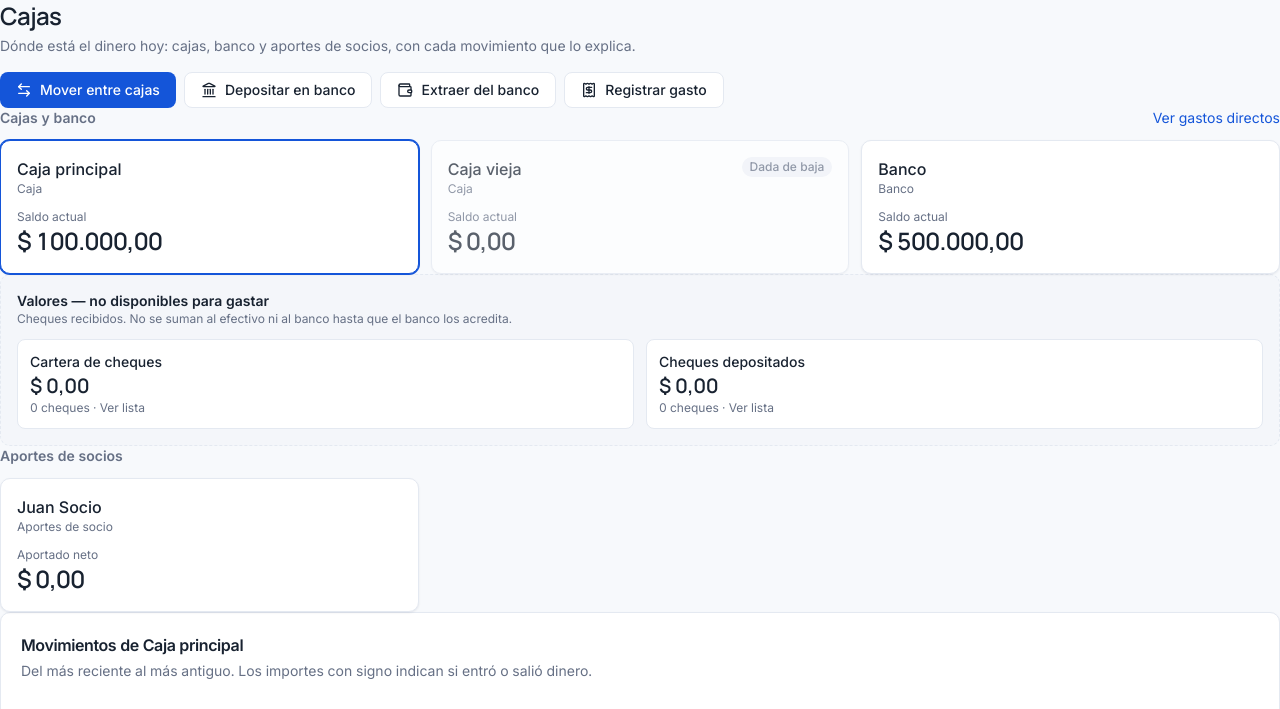
Test case: Registrar gasto from Cajas (R5-3) › shows the debit and the credit before sending, and sends only after the explicit confirmation
Click the button "Registrar gasto".
click(644, 90)  # box left=564, top=72, right=724, bottom=108
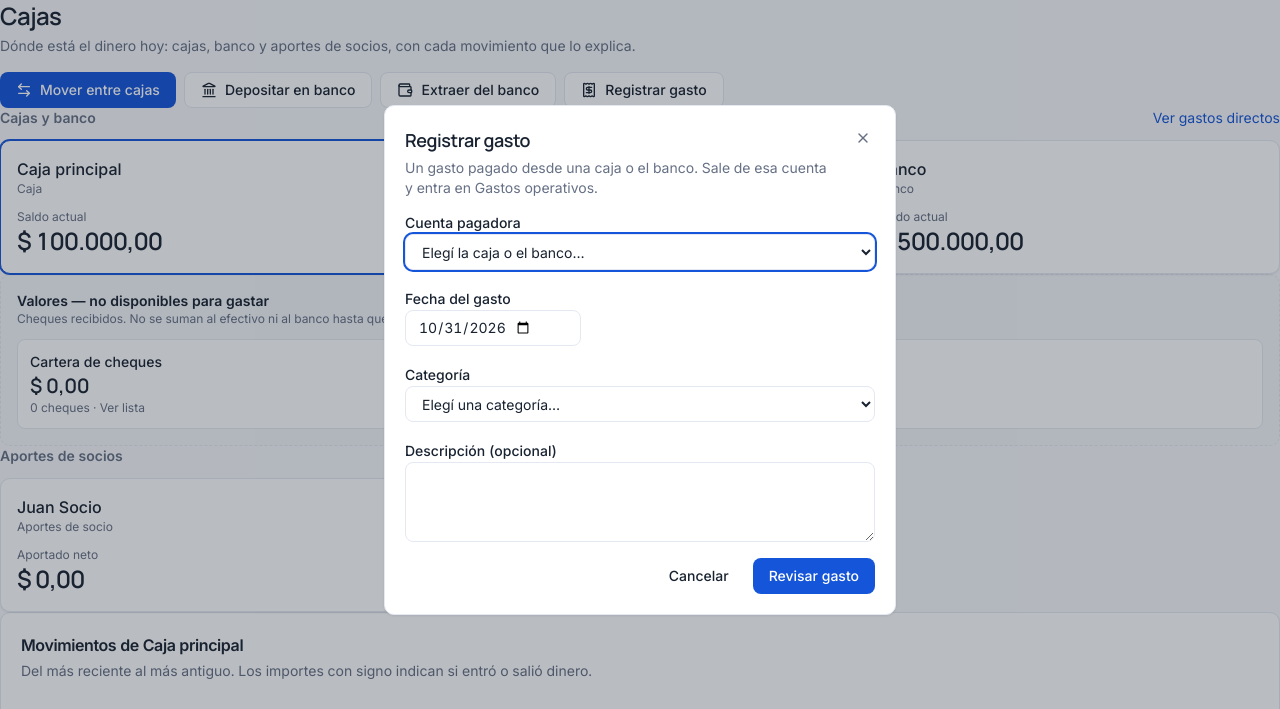
Select "Caja principal · saldo $ 100.000,00" in the dropdown labelled "Cuenta pagadora" at (640, 252), box left=405, top=234, right=875, bottom=270
Select "Peajes" in the dropdown labelled "Categoría" at (640, 404), box left=405, top=386, right=875, bottom=422
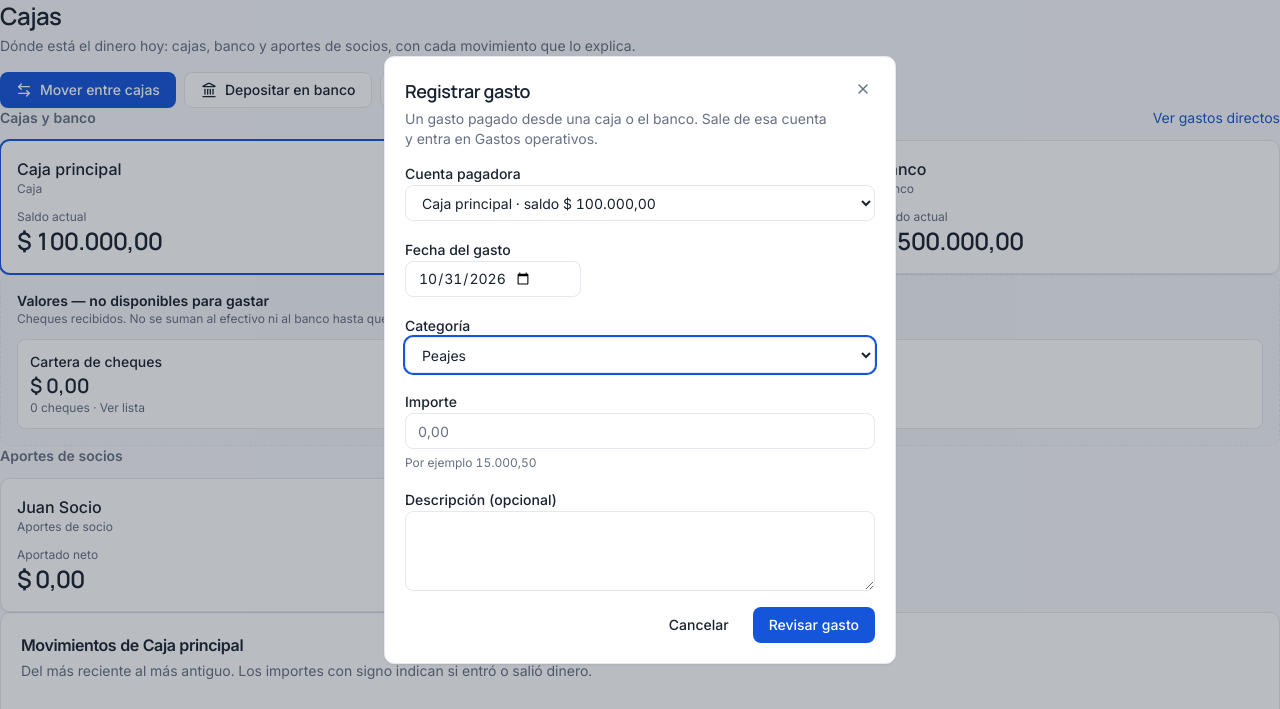
Type "5.000" into the field labelled "Importe".
click(640, 431); type("5.000")  # box left=405, top=413, right=875, bottom=449
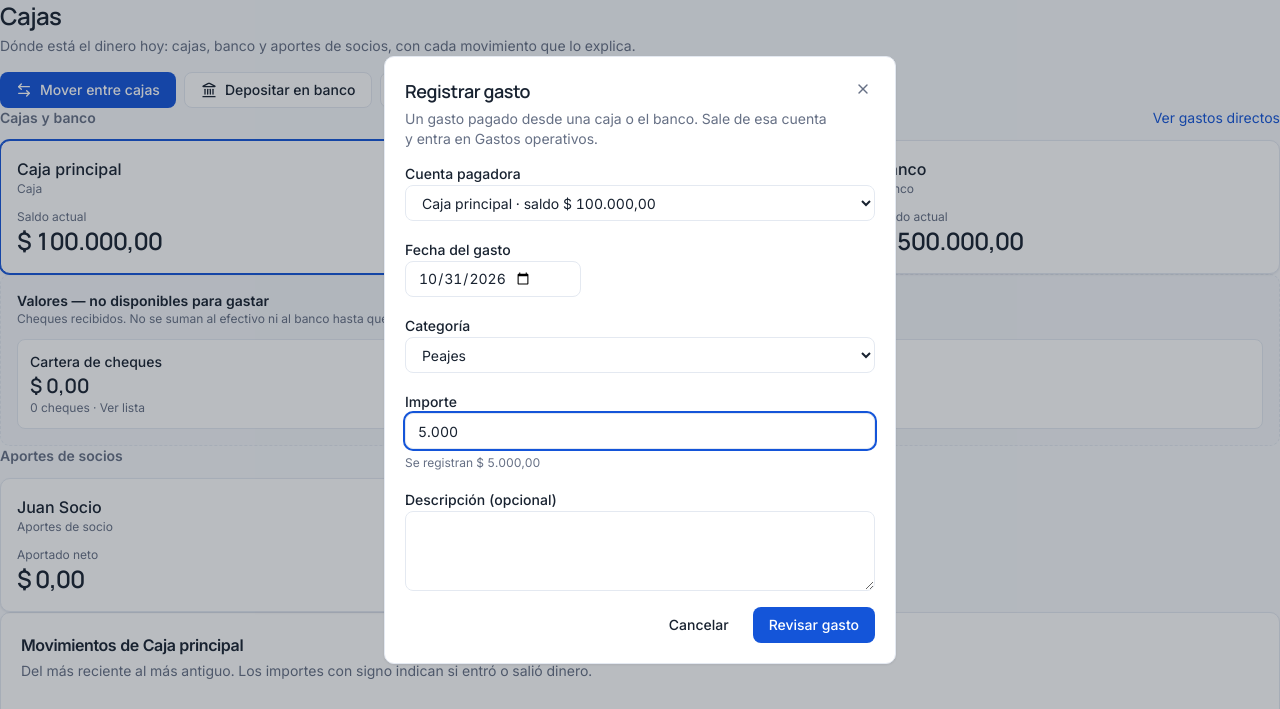
Type "Peaje autopista" into the text box labelled "Descripción (opcional)".
click(640, 551); type("Peaje autopista")  # box left=405, top=511, right=875, bottom=591
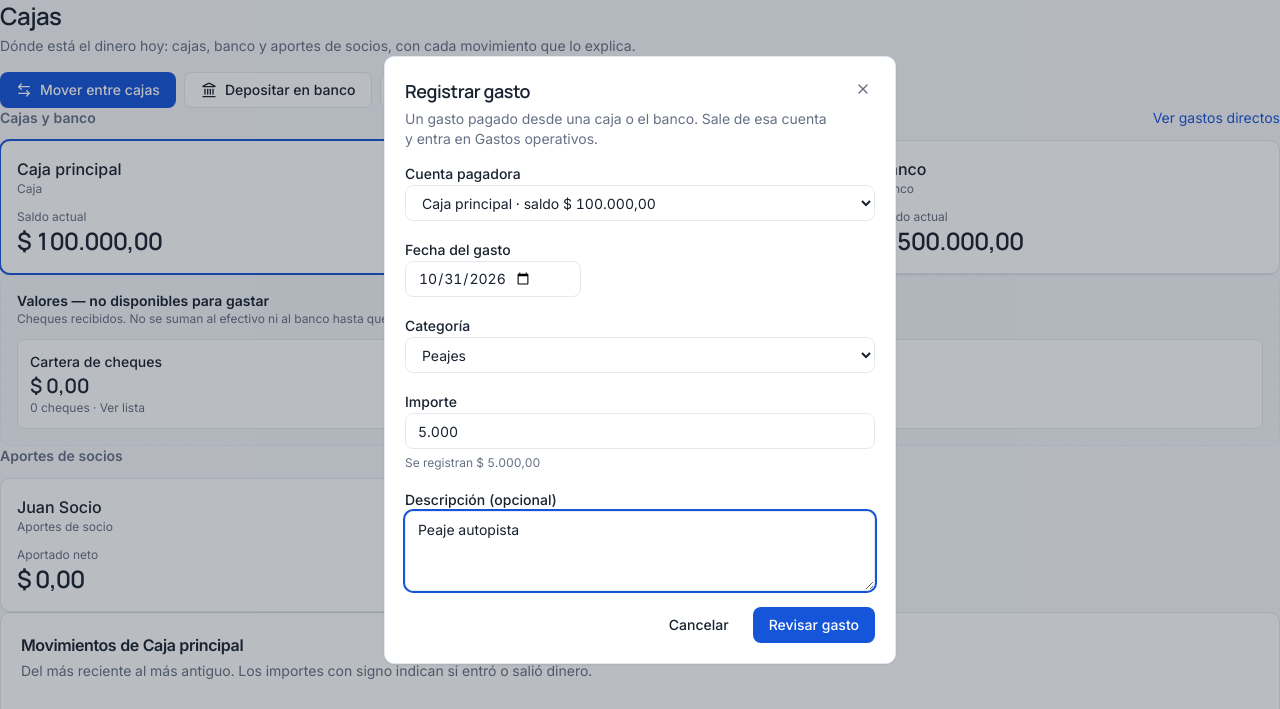
Click the button "Revisar gasto".
click(814, 625)  # box left=753, top=607, right=875, bottom=643
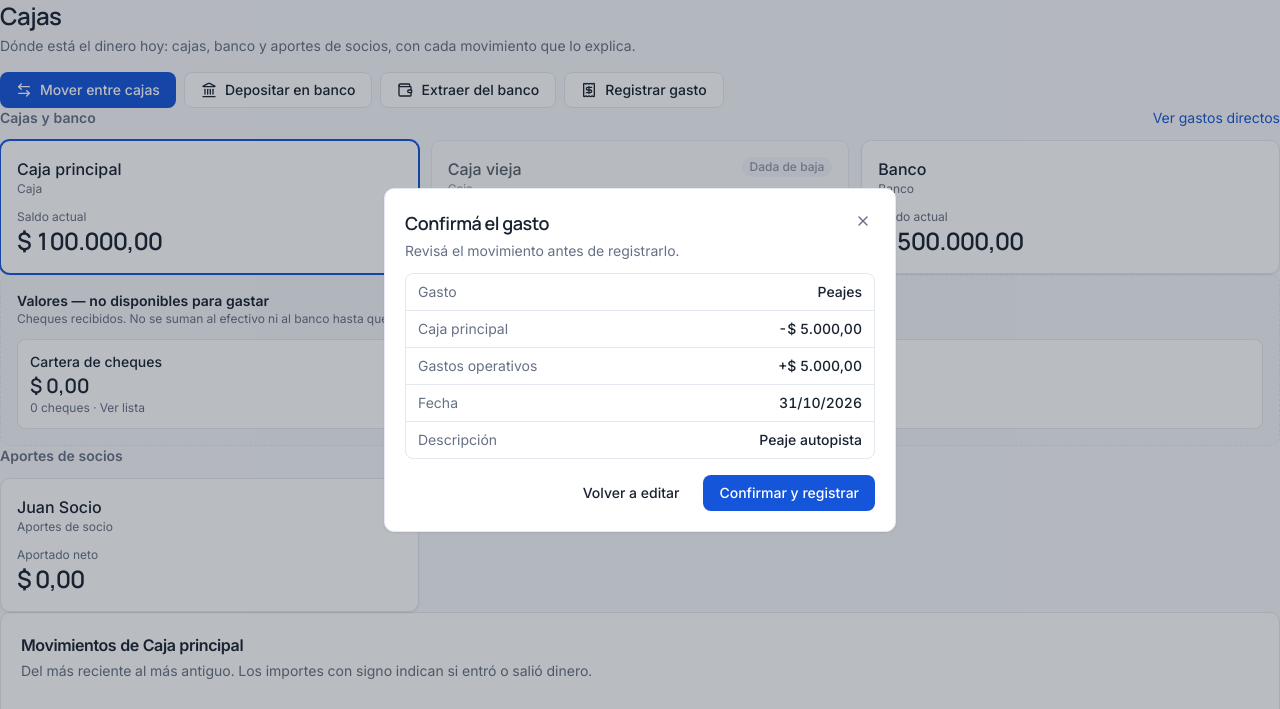
Click the button "Confirmar y registrar".
click(789, 493)  # box left=703, top=475, right=875, bottom=511
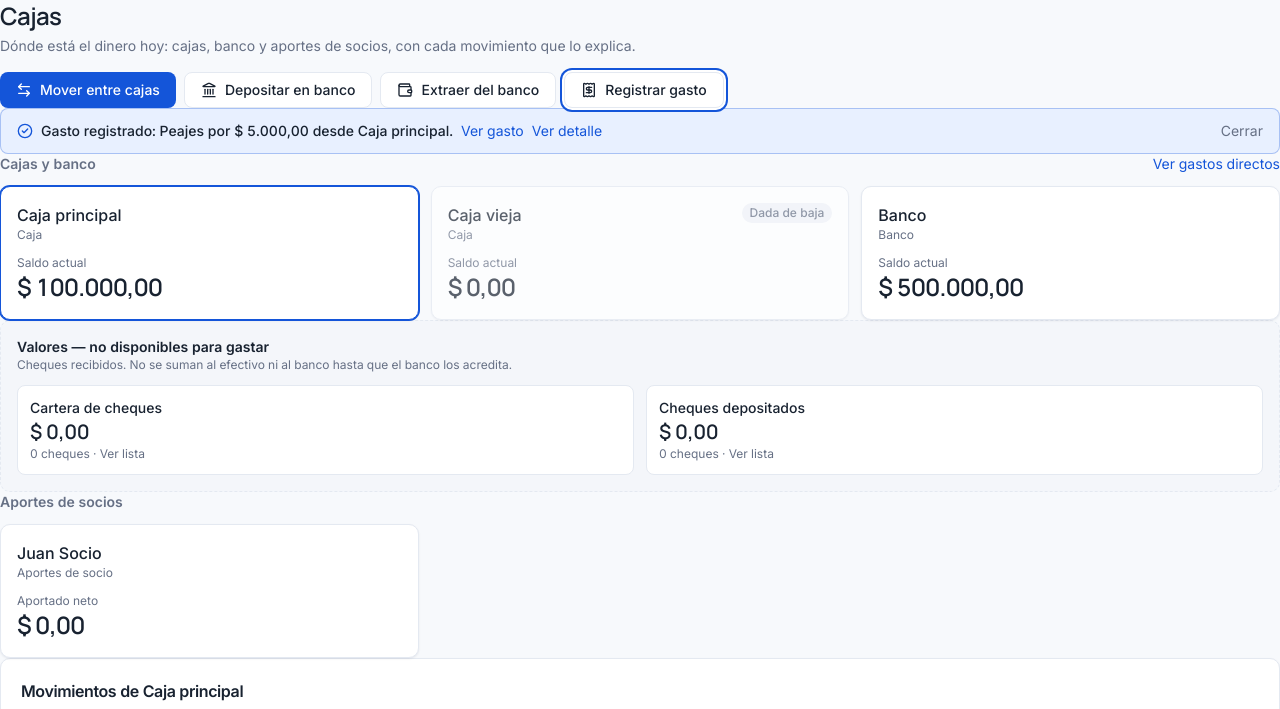
Expected: the message shows "Gasto registrado: Peajes por $ 5.000,00", left=41, top=122, right=453, bottom=139
